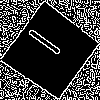I: (26, 25, 71, 64)
